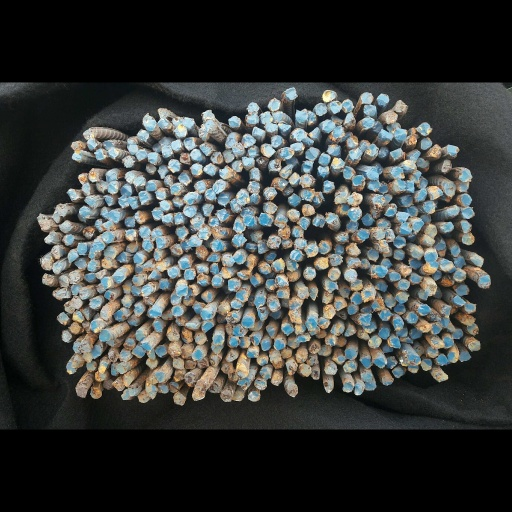dipstick: (177, 170, 192, 185), (299, 173, 315, 187), (251, 126, 266, 140), (303, 243, 318, 257), (295, 109, 309, 124), (291, 128, 307, 141), (443, 181, 456, 197), (203, 118, 217, 132), (241, 133, 255, 147), (235, 191, 249, 205), (348, 207, 362, 221), (183, 191, 196, 206), (212, 179, 227, 192), (233, 249, 246, 264), (266, 236, 281, 249), (416, 122, 431, 135), (411, 217, 423, 233), (199, 143, 213, 156), (183, 136, 196, 150), (67, 188, 81, 201), (51, 245, 65, 258), (195, 245, 208, 259), (167, 344, 181, 357), (196, 273, 210, 286), (232, 233, 245, 247), (267, 98, 281, 111), (250, 229, 263, 243), (256, 240, 269, 254), (258, 261, 271, 275), (237, 377, 251, 390), (280, 164, 293, 178), (261, 143, 274, 157), (406, 354, 420, 367), (428, 186, 442, 199), (55, 204, 70, 216), (323, 304, 335, 319), (331, 125, 343, 140), (201, 203, 214, 216), (59, 219, 72, 232), (176, 226, 189, 239), (177, 257, 190, 270), (173, 392, 186, 405), (211, 275, 224, 288), (219, 166, 232, 179), (258, 213, 271, 226), (303, 267, 316, 280), (250, 272, 263, 285), (289, 311, 302, 324), (346, 220, 359, 233), (318, 152, 331, 165), (342, 166, 355, 179), (391, 166, 404, 179), (408, 168, 421, 181), (453, 256, 466, 269), (167, 159, 181, 171), (189, 163, 203, 175), (203, 163, 217, 175), (88, 168, 100, 182), (204, 188, 216, 202), (76, 242, 88, 256), (86, 259, 100, 271), (111, 270, 125, 282), (187, 234, 201, 246), (185, 372, 197, 386), (245, 112, 259, 124), (242, 155, 254, 169), (263, 187, 277, 199), (290, 249, 304, 261), (272, 258, 284, 272), (314, 257, 328, 269), (328, 253, 342, 265), (319, 240, 331, 254), (301, 188, 315, 200), (273, 178, 287, 190), (290, 143, 304, 155), (392, 366, 406, 378), (372, 195, 386, 207), (393, 179, 405, 193), (400, 194, 414, 206), (411, 245, 423, 259), (420, 234, 434, 246), (173, 125, 186, 137), (190, 149, 203, 161), (81, 183, 94, 195), (84, 196, 97, 208), (193, 181, 206, 193), (134, 210, 147, 222), (70, 297, 83, 309), (42, 273, 55, 285), (57, 312, 69, 325), (76, 384, 88, 397), (112, 379, 125, 391), (192, 388, 205, 400), (180, 330, 192, 343), (209, 354, 222, 366), (193, 301, 206, 313), (210, 239, 223, 251), (216, 209, 229, 221), (247, 145, 260, 157), (249, 168, 261, 181), (247, 181, 260, 193), (232, 221, 245, 233), (287, 209, 299, 222), (288, 194, 301, 206), (302, 204, 315, 216), (275, 275, 288, 287), (228, 278, 240, 291), (227, 336, 240, 348), (256, 353, 269, 365), (285, 361, 297, 374), (318, 344, 331, 356), (312, 214, 324, 227), (289, 297, 301, 310), (270, 356, 283, 368), (368, 336, 381, 348), (358, 313, 371, 325), (344, 269, 356, 282), (435, 353, 448, 365), (348, 193, 361, 205), (322, 181, 334, 194), (322, 119, 334, 132), (345, 136, 358, 148), (329, 100, 341, 113), (360, 92, 373, 104), (377, 93, 389, 106), (362, 116, 374, 129), (394, 100, 407, 112), (349, 148, 362, 160), (366, 143, 378, 156), (404, 160, 416, 173), (459, 169, 472, 181), (423, 200, 435, 213), (424, 261, 437, 273), (454, 269, 466, 282), (455, 283, 468, 295), (425, 225, 437, 238), (459, 194, 471, 207), (477, 276, 490, 288), (461, 233, 474, 245), (138, 191, 149, 205), (43, 232, 57, 243), (223, 149, 234, 163), (259, 112, 273, 123), (237, 269, 251, 280), (250, 332, 261, 346), (280, 148, 294, 159), (303, 160, 314, 174), (305, 148, 319, 159), (342, 361, 356, 372), (335, 232, 349, 243), (327, 144, 341, 155), (322, 90, 336, 101), (341, 99, 352, 113), (367, 166, 378, 180), (377, 218, 391, 229), (460, 220, 471, 234), (127, 143, 139, 155), (137, 129, 149, 141), (161, 146, 173, 158), (211, 152, 223, 164), (155, 188, 167, 200), (107, 181, 119, 193), (217, 193, 229, 205), (184, 205, 196, 217), (125, 229, 137, 241), (108, 210, 120, 222), (40, 258, 52, 270), (101, 257, 113, 269), (175, 284, 187, 296), (121, 296, 133, 308), (133, 304, 145, 316), (99, 329, 111, 341), (72, 311, 84, 323), (69, 322, 81, 334), (195, 332, 207, 344), (220, 390, 232, 402), (222, 255, 234, 267), (285, 87, 297, 99), (243, 214, 255, 226), (297, 287, 309, 299), (236, 290, 248, 302), (268, 299, 280, 311), (287, 336, 299, 348), (286, 384, 298, 396), (295, 350, 307, 362), (305, 319, 317, 331), (325, 334, 337, 346), (328, 268, 340, 280), (269, 159, 281, 171), (271, 135, 283, 147), (334, 299, 346, 311), (362, 289, 374, 301), (375, 265, 387, 277), (425, 283, 437, 295), (393, 236, 405, 248), (357, 228, 369, 240), (315, 103, 327, 115), (385, 111, 397, 123), (358, 140, 370, 152), (420, 137, 432, 149), (72, 150, 85, 161), (94, 149, 107, 160), (157, 117, 170, 128), (147, 152, 160, 163), (135, 149, 148, 160), (171, 196, 184, 207), (162, 213, 173, 226), (101, 232, 114, 243), (68, 272, 81, 283), (183, 268, 196, 279), (132, 345, 143, 358), (166, 330, 179, 341), (211, 335, 224, 346), (171, 305, 184, 316), (201, 291, 214, 302), (264, 202, 277, 213), (274, 217, 287, 228), (297, 218, 310, 229), (286, 260, 299, 271), (241, 316, 254, 327), (246, 347, 259, 358), (266, 325, 277, 338), (281, 324, 294, 335), (317, 317, 330, 328), (347, 245, 360, 256), (417, 304, 430, 315), (408, 258, 421, 269), (331, 158, 344, 169), (363, 104, 376, 115), (394, 128, 407, 139), (445, 144, 458, 155), (441, 159, 452, 172), (456, 180, 469, 191), (416, 188, 427, 201), (468, 340, 481, 351), (468, 323, 479, 336), (470, 256, 483, 267), (105, 170, 119, 180), (278, 348, 292, 358), (330, 325, 344, 335), (347, 258, 361, 268), (431, 144, 441, 158), (461, 315, 475, 325), (122, 155, 133, 167), (143, 119, 155, 130), (183, 117, 194, 129), (229, 116, 240, 128), (170, 140, 182, 151), (163, 175, 174, 187), (171, 183, 182, 195), (120, 185, 132, 196), (151, 209, 163, 220), (139, 226, 150, 238), (155, 237, 167, 248), (78, 206, 90, 217), (83, 227, 94, 239), (62, 235, 74, 246), (67, 250, 78, 262), (74, 258, 86, 269), (142, 239, 153, 251), (58, 275, 69, 287), (170, 244, 181, 256), (167, 267, 179, 278), (141, 285, 153, 296), (114, 310, 126, 321), (90, 387, 102, 398), (116, 362, 127, 374), (123, 338, 135, 349), (135, 329, 146, 341), (173, 358, 184, 370), (119, 350, 131, 361), (207, 216, 219, 227), (232, 160, 243, 172), (233, 143, 244, 155), (247, 102, 259, 113), (249, 193, 260, 205), (294, 238, 306, 249), (278, 227, 290, 238), (265, 278, 276, 290), (273, 338, 285, 349), (254, 379, 266, 390), (271, 374, 282, 386), (300, 365, 312, 376), (308, 342, 320, 353), (324, 363, 336, 374), (325, 212, 337, 223), (278, 123, 290, 134), (221, 363, 233, 374), (342, 381, 354, 392), (346, 304, 358, 315), (322, 292, 334, 303), (351, 293, 362, 305), (350, 279, 362, 290), (389, 337, 400, 349), (392, 318, 403, 330), (333, 244, 345, 255), (367, 249, 378, 261), (420, 359, 432, 370), (427, 346, 438, 358), (442, 337, 454, 348), (447, 351, 458, 363), (430, 322, 442, 333), (410, 273, 422, 284), (373, 228, 384, 240), (381, 128, 393, 139), (408, 150, 420, 161), (417, 157, 429, 168), (368, 180, 380, 191), (385, 204, 396, 216), (399, 223, 411, 234), (452, 295, 464, 306), (447, 206, 459, 217), (153, 372, 166, 382), (211, 343, 224, 353), (201, 322, 214, 332), (226, 312, 239, 322), (259, 368, 272, 378), (325, 281, 338, 291), (344, 349, 357, 359), (375, 281, 388, 291), (397, 280, 410, 290), (395, 293, 408, 303), (373, 357, 386, 367), (386, 356, 396, 369), (430, 338, 443, 348), (389, 148, 402, 158), (440, 222, 453, 232), (92, 345, 101, 359), (158, 165, 169, 176), (134, 175, 145, 186), (125, 172, 136, 183), (78, 173, 89, 184), (127, 198, 138, 209), (52, 263, 63, 274), (101, 277, 112, 288), (155, 346, 166, 357), (146, 357, 157, 368), (209, 382, 220, 393), (170, 294, 181, 305), (217, 304, 228, 315), (292, 226, 303, 237), (226, 350, 237, 361), (260, 339, 271, 350), (323, 381, 334, 392), (378, 328, 389, 339), (385, 296, 396, 307), (406, 312, 417, 323), (400, 265, 411, 276), (394, 249, 405, 260), (362, 214, 373, 225), (335, 192, 346, 203), (309, 127, 320, 138), (416, 177, 427, 188), (435, 240, 446, 251), (452, 328, 463, 339), (464, 303, 475, 314), (83, 129, 95, 139), (144, 181, 156, 191), (159, 201, 171, 211), (133, 253, 145, 263), (78, 288, 90, 298), (89, 299, 101, 309), (148, 270, 160, 280), (132, 275, 144, 285), (64, 301, 74, 313), (66, 362, 76, 374), (184, 360, 196, 370), (138, 392, 150, 402), (248, 391, 260, 401), (157, 108, 169, 118), (354, 382, 364, 394), (360, 358, 372, 368), (340, 286, 350, 298), (379, 310, 391, 320), (381, 375, 393, 385), (352, 175, 364, 185), (379, 182, 389, 194), (425, 251, 437, 261), (200, 310, 213, 319), (408, 329, 421, 338), (434, 373, 448, 381), (87, 139, 98, 149), (107, 148, 118, 158), (149, 307, 160, 317), (101, 308, 111, 319), (62, 330, 72, 341), (79, 342, 90, 352), (71, 357, 82, 367), (85, 361, 96, 371), (152, 321, 162, 332), (121, 389, 132, 399), (157, 383, 168, 393), (192, 349, 203, 359), (254, 296, 265, 306), (373, 300, 384, 310), (388, 271, 399, 281), (394, 304, 405, 314), (417, 290, 428, 300), (459, 351, 470, 361), (281, 239, 293, 248), (202, 110, 214, 119), (333, 355, 345, 364), (318, 166, 330, 175), (406, 135, 415, 147), (442, 305, 451, 317), (151, 229, 161, 239), (131, 285, 141, 295), (168, 382, 178, 392), (237, 368, 247, 378), (381, 258, 391, 268), (450, 246, 460, 256), (172, 117, 183, 126), (145, 164, 156, 173), (103, 196, 114, 205), (128, 385, 139, 394), (365, 381, 376, 390), (344, 327, 355, 336), (71, 141, 83, 149), (433, 270, 442, 280)
